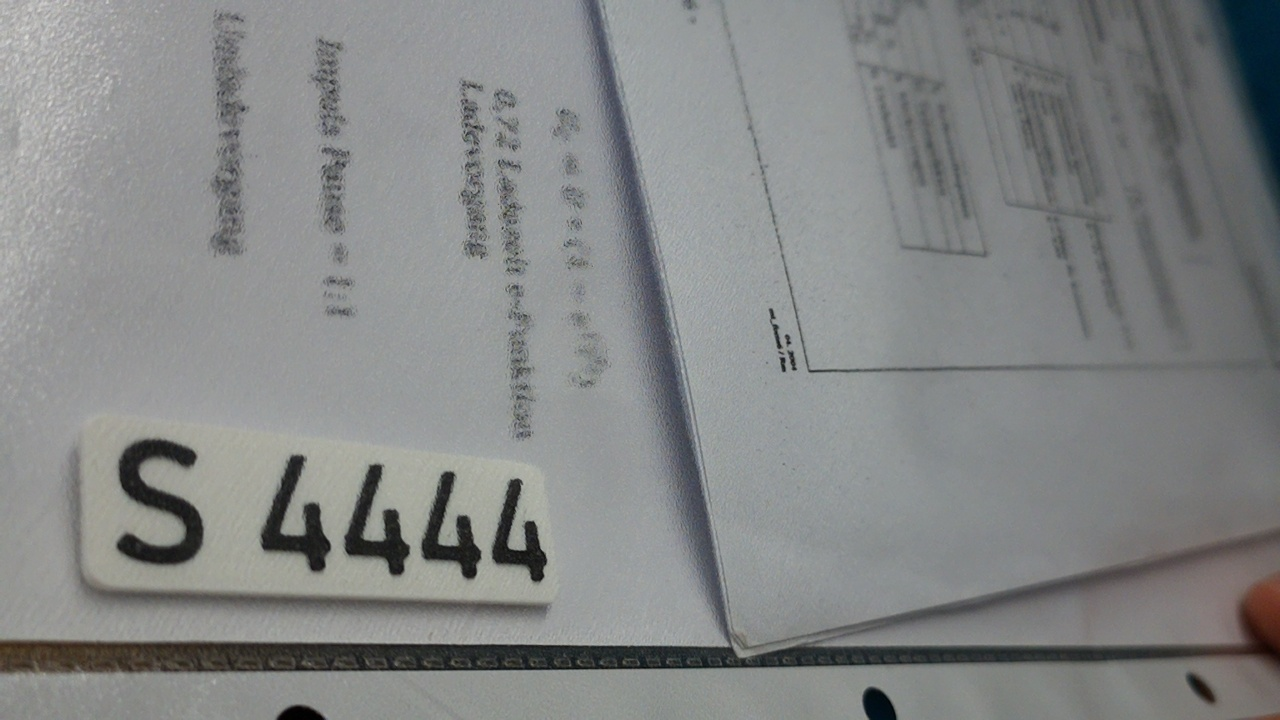license_plate: (77, 408, 563, 605)
